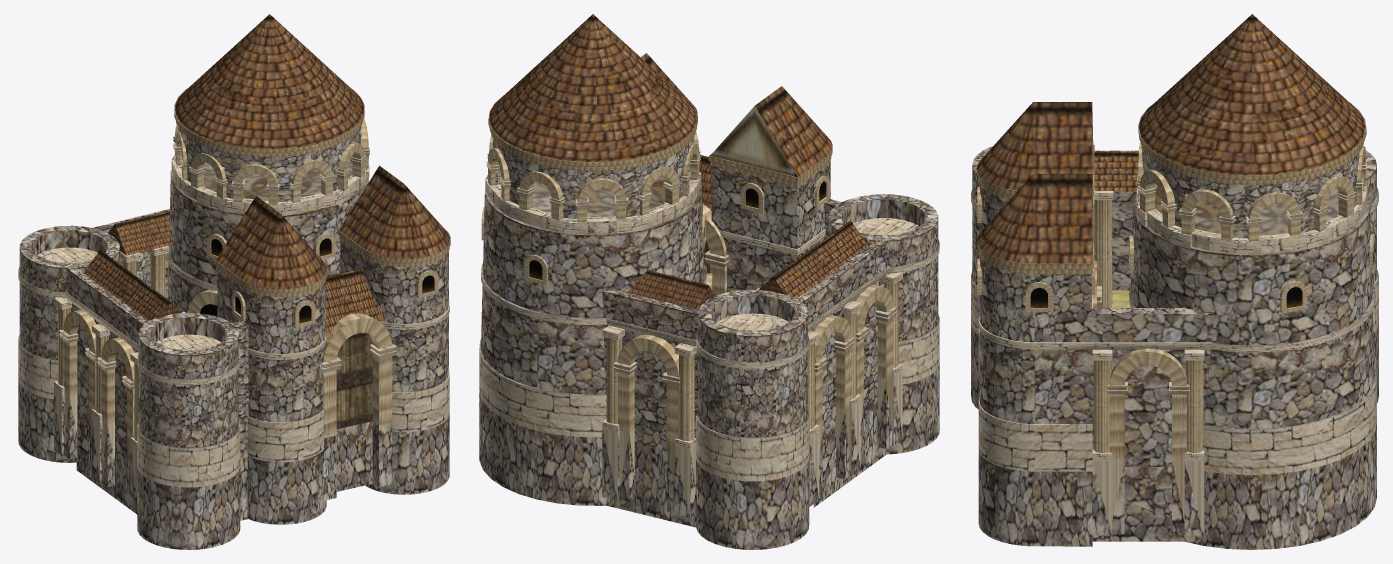
Rendered from fortress.dae.
3 renders of one model, left to right at view 1: azimuth 30°, elevation 25°; view 2: azimuth 150°, elevation 25°; view 3: azimuth 270°, elevation 25°, orthographic. The views are drawn at different scales.
Visible parts, largest first — view 1: fortress; view 2: fortress; view 3: fortress.
Boxes of the visible parts, x1,y1,x2,y2 form: fortress: (18,14,450,549); fortress: (479,14,939,549); fortress: (971,14,1378,549).
Size of the model in its own units: 25.59 by 24.59 by 32.23.
